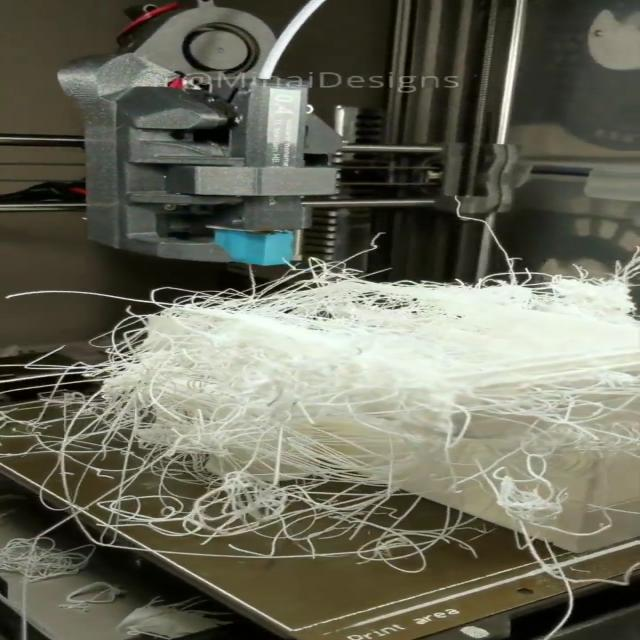spaghetti: (20, 254, 640, 618)
